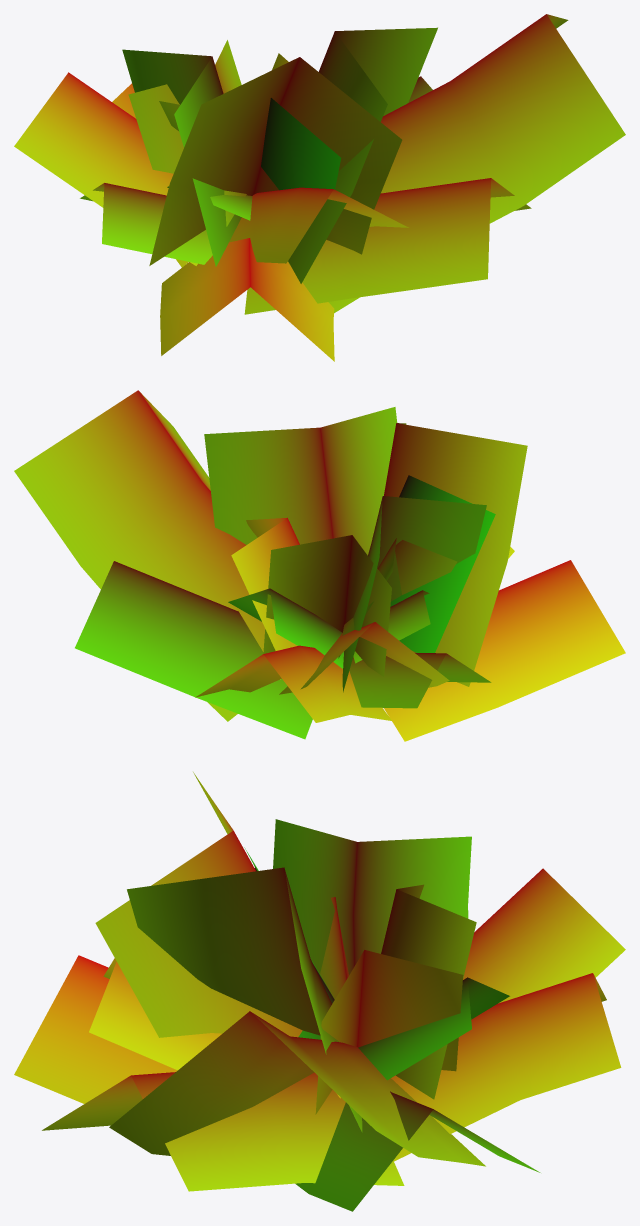
The model's file is bush_small.glb.
The picture shows the model from 3 angles, top to bottom: view 1: azimuth 30°, elevation 25°; view 2: azimuth 150°, elevation 25°; view 3: azimuth 270°, elevation 25°; orthographic projection. The views are drawn at different scales.
Visible parts, largest first — view 1: Bush5__1_; view 2: Bush5__1_; view 3: Bush5__1_.
Part boxes in pixels (box(x1,y1,x2,y2)): Bush5__1_: box(14, 14, 625, 361); Bush5__1_: box(14, 390, 625, 741); Bush5__1_: box(14, 772, 625, 1211).
Bounding box in the file's own units: 5.24 × 2.55 × 4.42.
